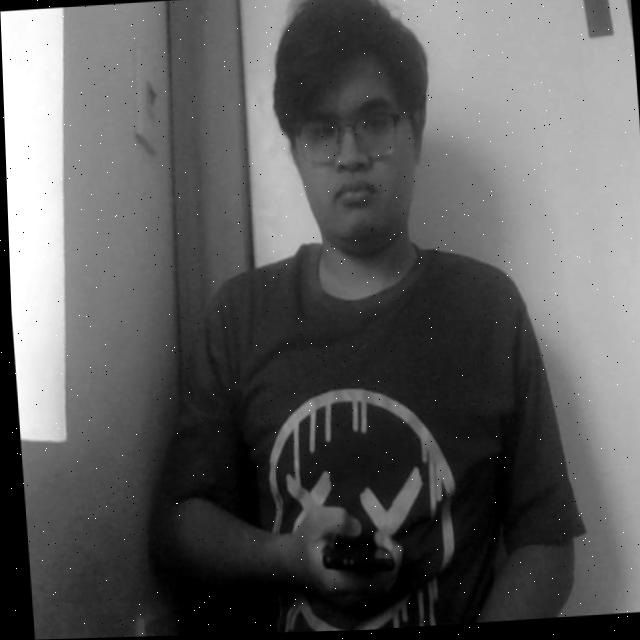phone: (301, 513, 404, 606)
